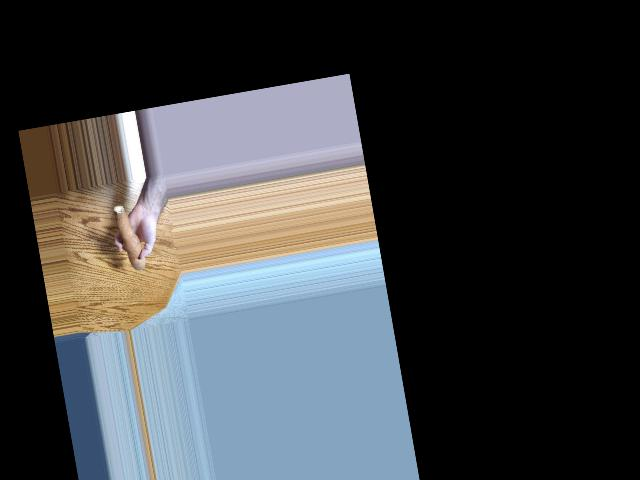sweet_potato: (110, 197, 144, 276)
